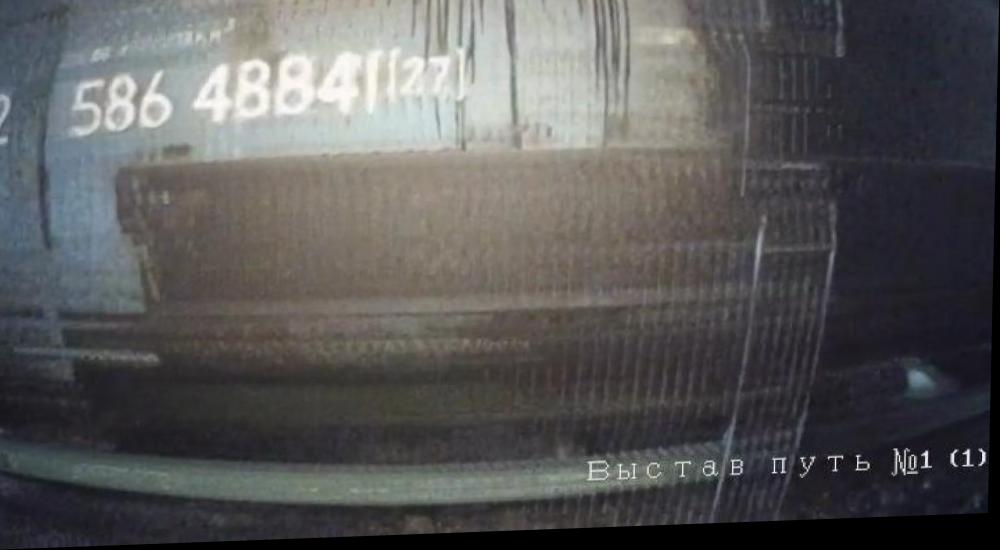Wagon-number: (67, 52, 382, 143)
